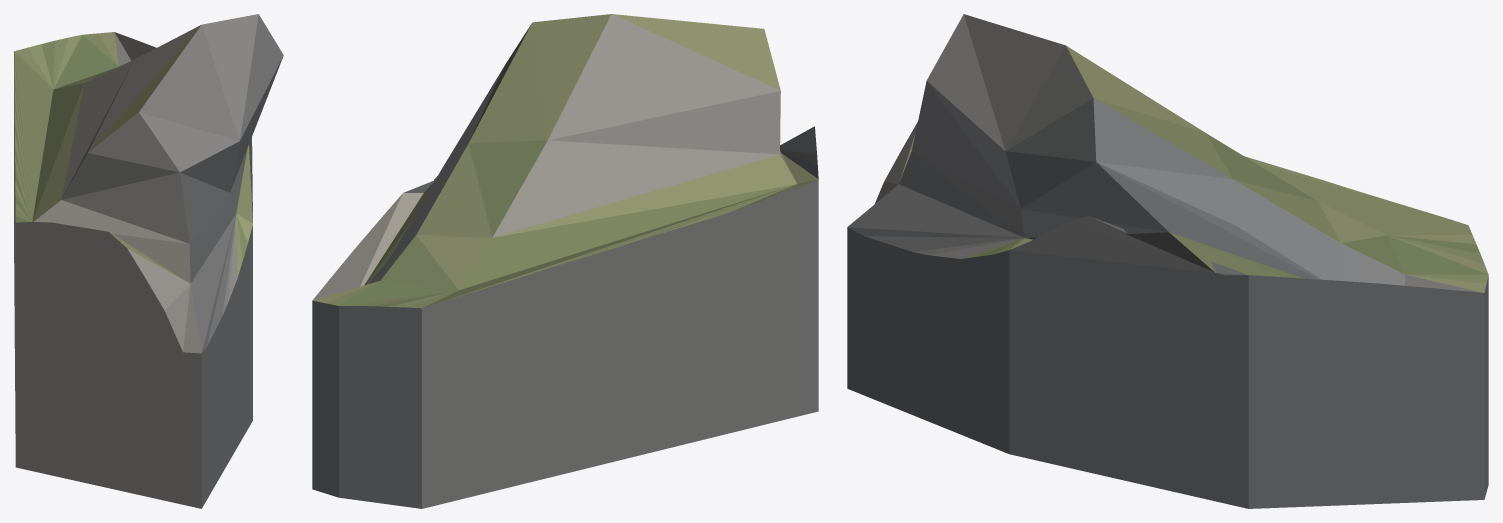
The model's file is cliff_crown.glb.
3 renders of one model, left to right at view 1: azimuth 30°, elevation 25°; view 2: azimuth 150°, elevation 25°; view 3: azimuth 270°, elevation 25°, orthographic. The views are drawn at different scales.
Visible parts, largest first — view 1: cliff_crown; view 2: cliff_crown; view 3: cliff_crown.
Part boxes in pixels (x1=…): cliff_crown: x1=14, y1=14, x2=283, y2=508; cliff_crown: x1=312, y1=14, x2=818, y2=508; cliff_crown: x1=847, y1=14, x2=1488, y2=508.
Size of the model in its own units: 86.14 by 94 by 138.
